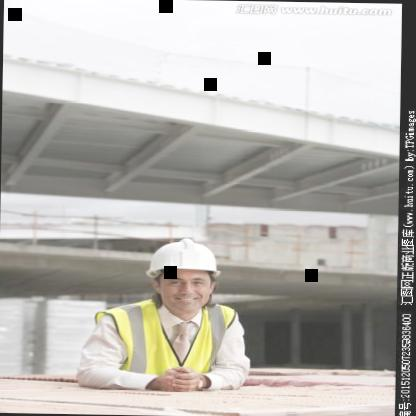helmet: (135, 231, 232, 316)
